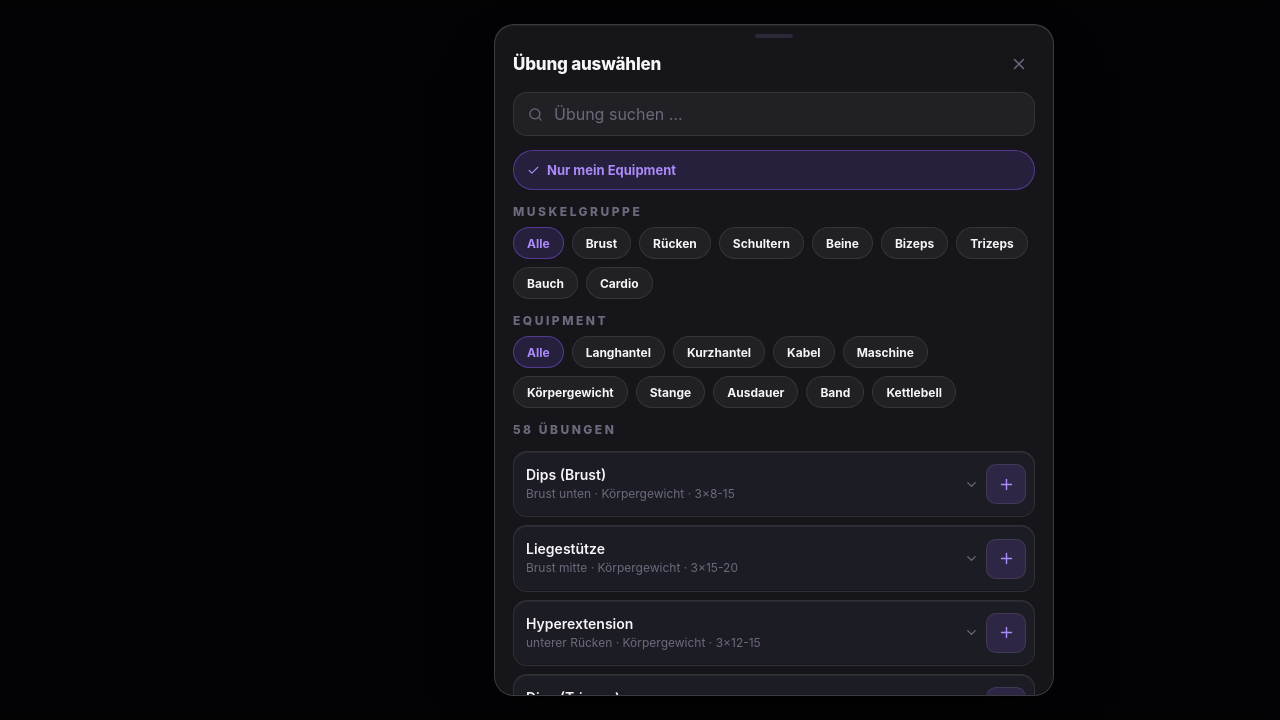
Test: ExercisePickerSheet renders and works › marks what the user cannot do rather than hiding it silently
Click the button "Nur mein Equipment" at (612, 170), box top-left (513, 150), bottom-right (1035, 190)
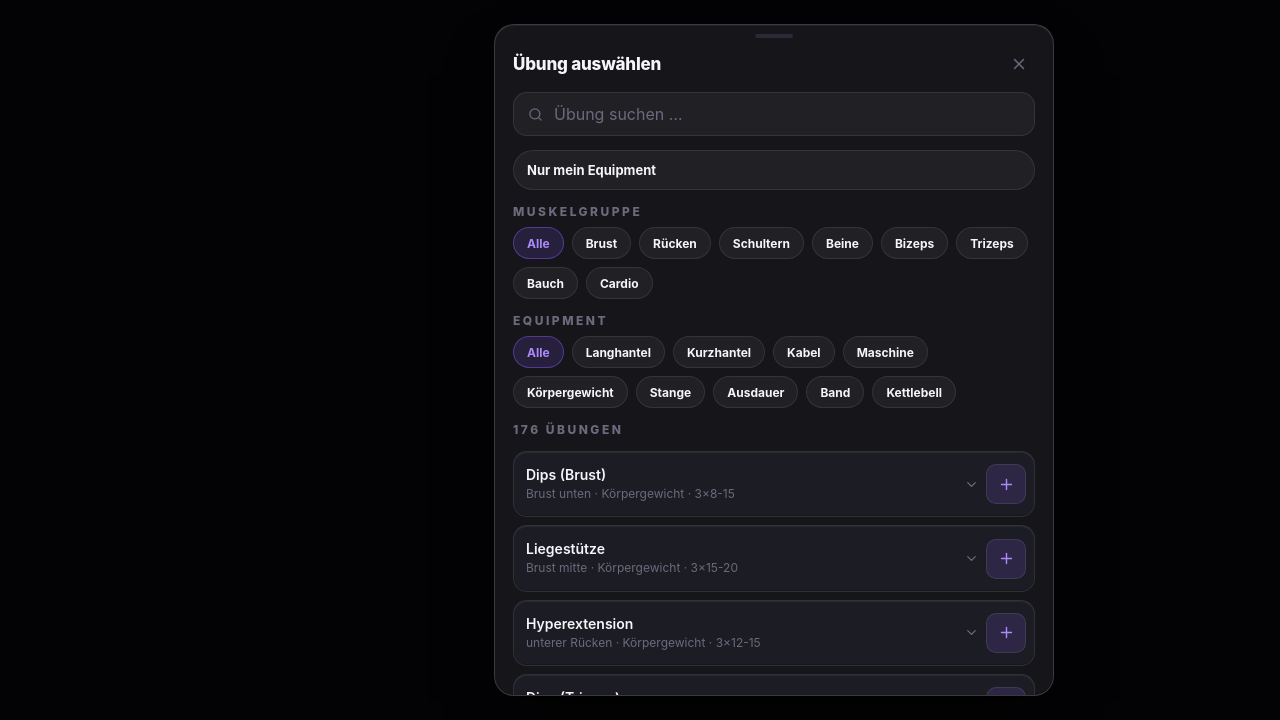
Type "Bankdrücken" into the field labelled "Übung suchen" at (786, 114), box top-left (552, 103), bottom-right (1020, 125)
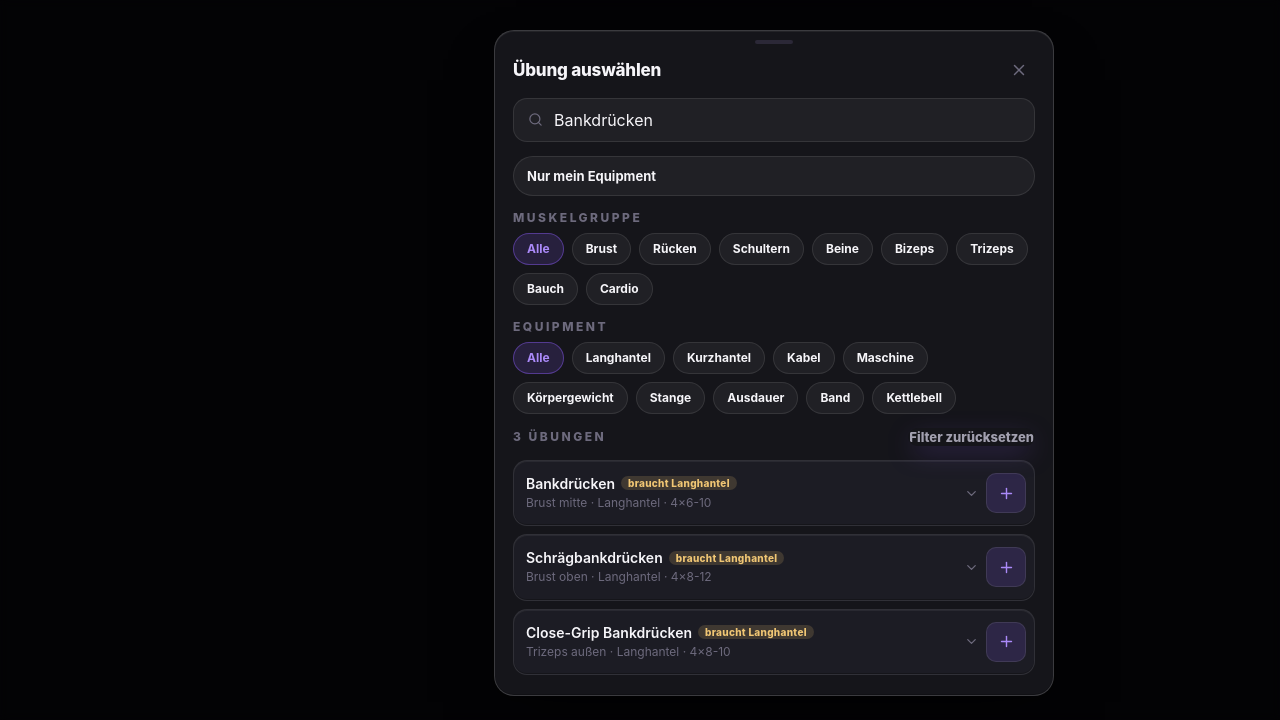
Expected: the 1st text "braucht Langhantel" is shown, top-left (621, 476), bottom-right (737, 490)
